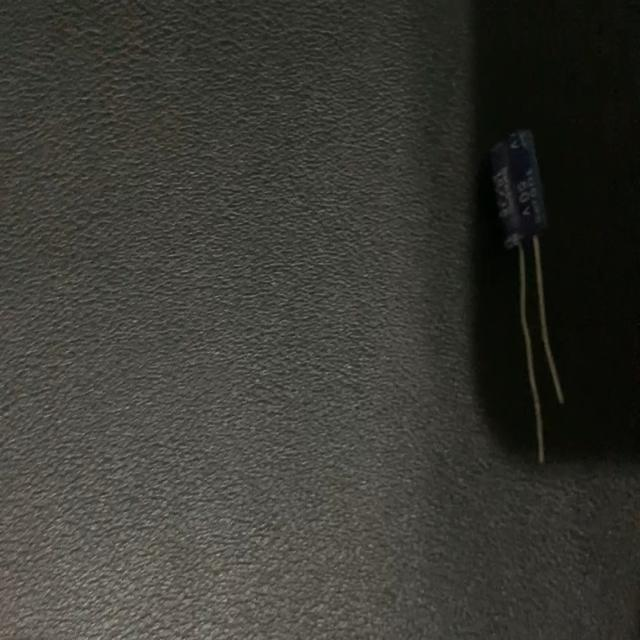capacitor: (491, 130, 563, 460)
